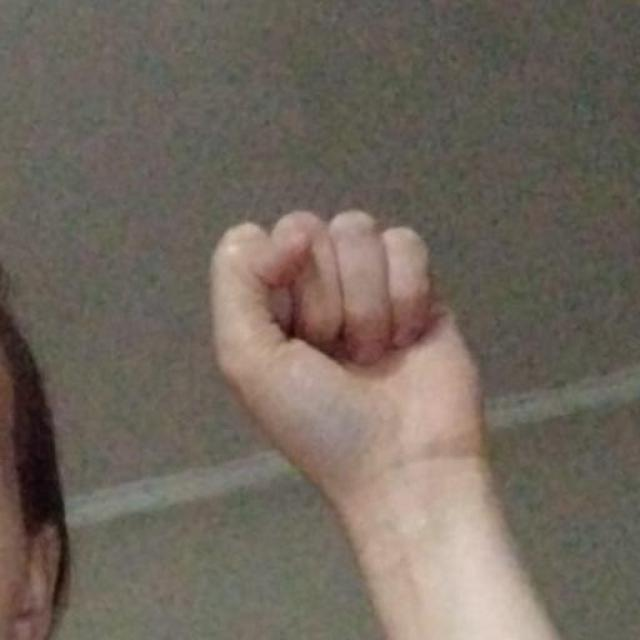hand: (206, 205, 490, 509)
